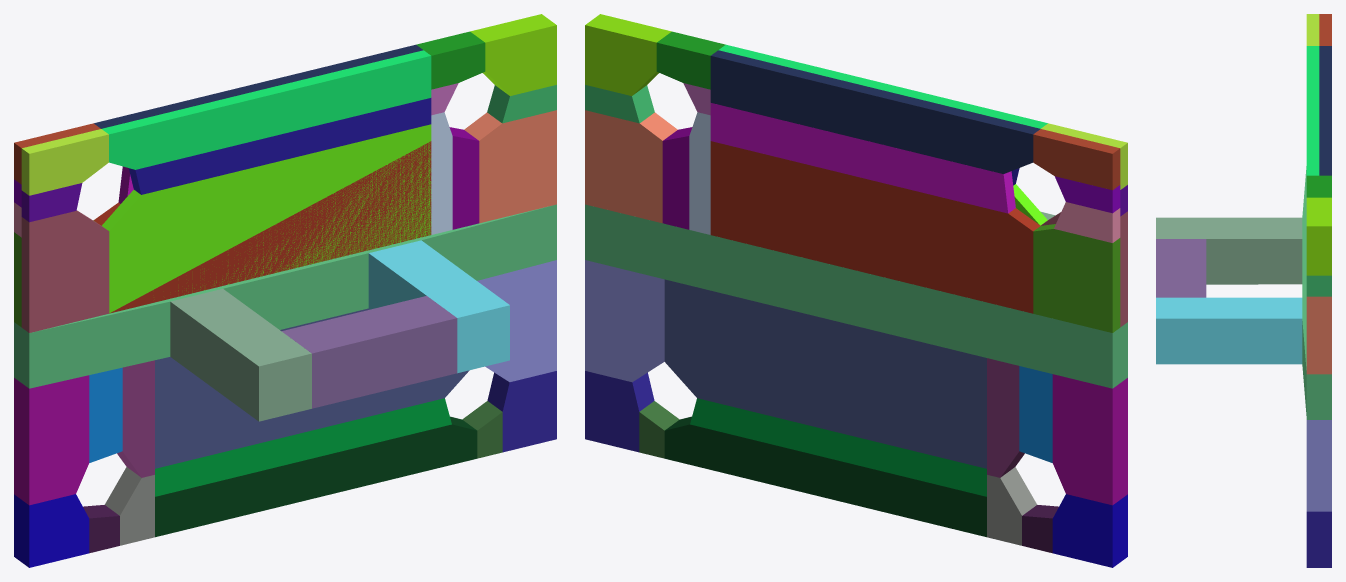
Rendered from bracket_uniform_scale_2_coacd.obj.
3 views of the same model, side by side, from view 1: azimuth 30°, elevation 25°; view 2: azimuth 150°, elevation 25°; view 3: azimuth 270°, elevation 25° (orthographic). The views are drawn at different scales.
Visible parts, largest first — view 1: coacd_part_0017, coacd_part_0003, coacd_part_0023, coacd_part_0015, coacd_part_0025, coacd_part_0000, coacd_part_0001, coacd_part_0016, coacd_part_0013, coacd_part_0002, coacd_part_0014, coacd_part_0033 (+20 smaller); view 2: coacd_part_0016, coacd_part_0015, coacd_part_0003, coacd_part_0021, coacd_part_0025, coacd_part_0022, coacd_part_0014, coacd_part_0012, coacd_part_0033, coacd_part_0030, coacd_part_0009, coacd_part_0004 (+17 smaller); view 3: coacd_part_0002, coacd_part_0000, coacd_part_0001, coacd_part_0012, coacd_part_0003, coacd_part_0004, coacd_part_0009, coacd_part_0023, coacd_part_0021, coacd_part_0018, coacd_part_0008, coacd_part_0010 (+2 smaller).
Boxes of the visible parts, box(x1,y1,x2,y2) form: coacd_part_0017: box(102, 124, 431, 313); coacd_part_0003: box(14, 204, 556, 388); coacd_part_0023: box(102, 50, 431, 169); coacd_part_0015: box(93, 141, 431, 313); coacd_part_0025: box(155, 416, 477, 537); coacd_part_0000: box(170, 289, 311, 421); coacd_part_0001: box(282, 296, 457, 408); coacd_part_0016: box(155, 308, 469, 468); coacd_part_0013: box(21, 210, 109, 332); coacd_part_0002: box(368, 240, 509, 373); coacd_part_0014: box(14, 375, 89, 505); coacd_part_0033: box(155, 398, 451, 496); coacd_part_0016: box(664, 279, 986, 468); coacd_part_0015: box(710, 141, 1040, 313); coacd_part_0003: box(585, 204, 1127, 388); coacd_part_0021: box(710, 50, 1040, 173); coacd_part_0025: box(664, 416, 986, 537); coacd_part_0022: box(710, 103, 1015, 213); coacd_part_0014: box(1052, 374, 1127, 505); coacd_part_0012: box(585, 260, 664, 382); coacd_part_0033: box(690, 398, 986, 496); coacd_part_0030: box(1033, 224, 1120, 332); coacd_part_0009: box(585, 110, 677, 223); coacd_part_0004: box(585, 14, 671, 95); coacd_part_0002: box(1156, 297, 1302, 364); coacd_part_0000: box(1156, 217, 1302, 284); coacd_part_0001: box(1156, 239, 1206, 297); coacd_part_0012: box(1306, 420, 1331, 511); coacd_part_0003: box(1302, 166, 1331, 419); coacd_part_0004: box(1306, 197, 1331, 275); coacd_part_0009: box(1306, 296, 1331, 374); coacd_part_0023: box(1306, 46, 1319, 175); coacd_part_0021: box(1319, 46, 1331, 175); coacd_part_0018: box(1306, 511, 1331, 567); coacd_part_0008: box(1306, 175, 1331, 197); coacd_part_0010: box(1306, 275, 1331, 296).
Bounding box in the file's own units: 0.4 × 0.3 × 0.14.
